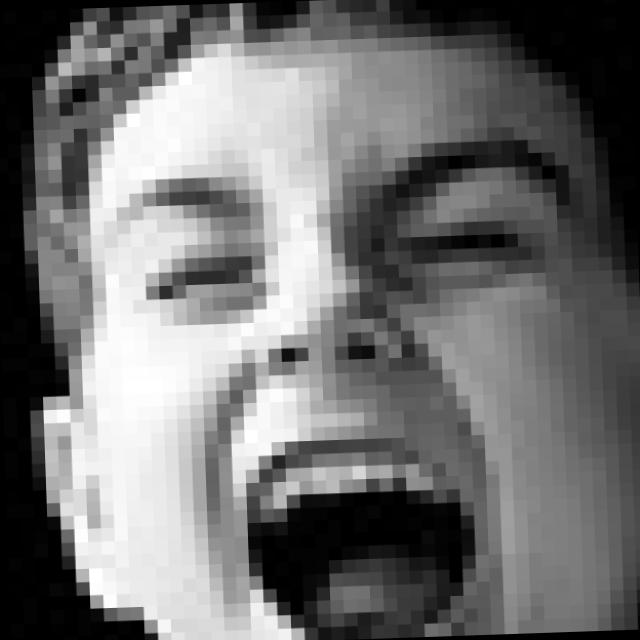angry: (114, 131, 599, 640)
